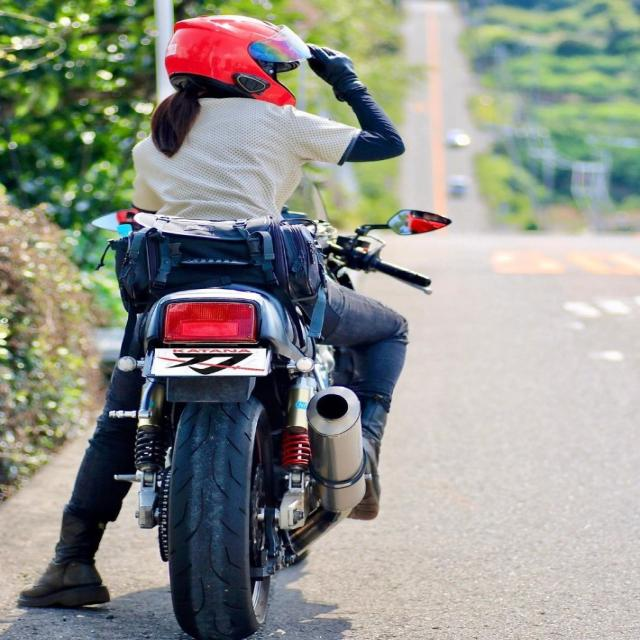helmet: (160, 10, 317, 110)
